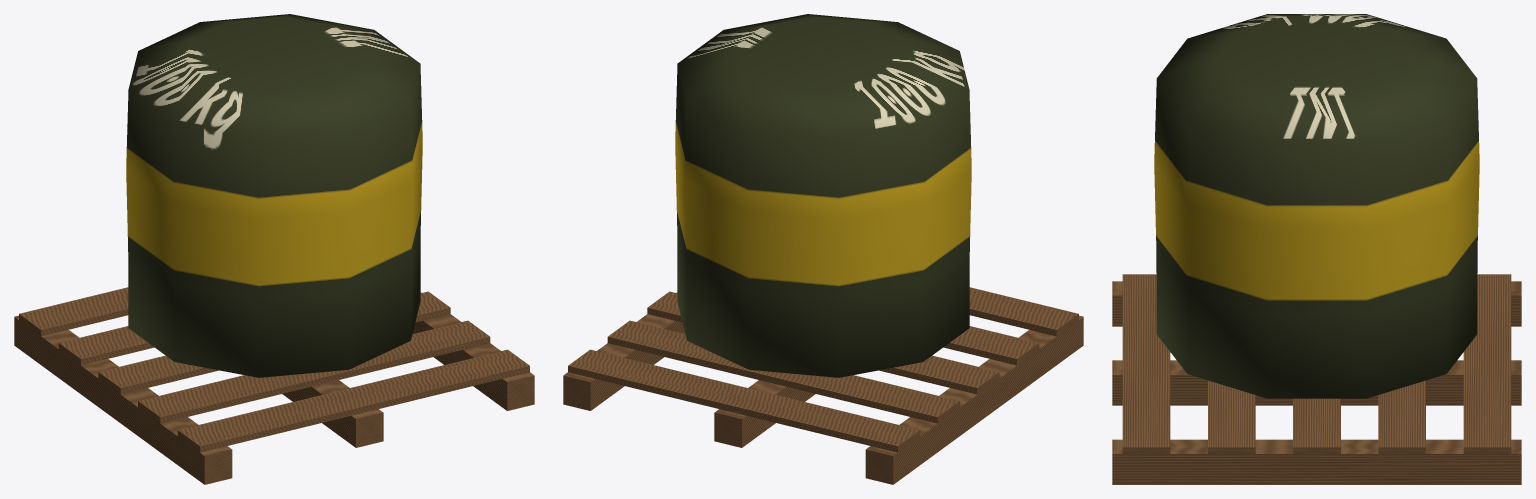
Rendered from tntDrum_L0.glb.
3 views of the same model, side by side, from view 1: azimuth 30°, elevation 25°; view 2: azimuth 150°, elevation 25°; view 3: azimuth 270°, elevation 25° (orthographic). The views are drawn at different scales.
Visible parts, largest first — view 1: drum, pallet:pallet; view 2: drum, pallet:pallet; view 3: drum, pallet:pallet.
Boxes of the visible parts, x1,y1,x2,y2 form: drum: (126, 14, 422, 377); pallet:pallet: (14, 287, 534, 484); drum: (675, 14, 971, 377); pallet:pallet: (563, 287, 1083, 484); drum: (1154, 14, 1479, 398); pallet:pallet: (1112, 274, 1521, 484).
Size of the model in its own units: 1.2 by 1.11 by 1.2.
Materials: 2 (2 with a texture image).
